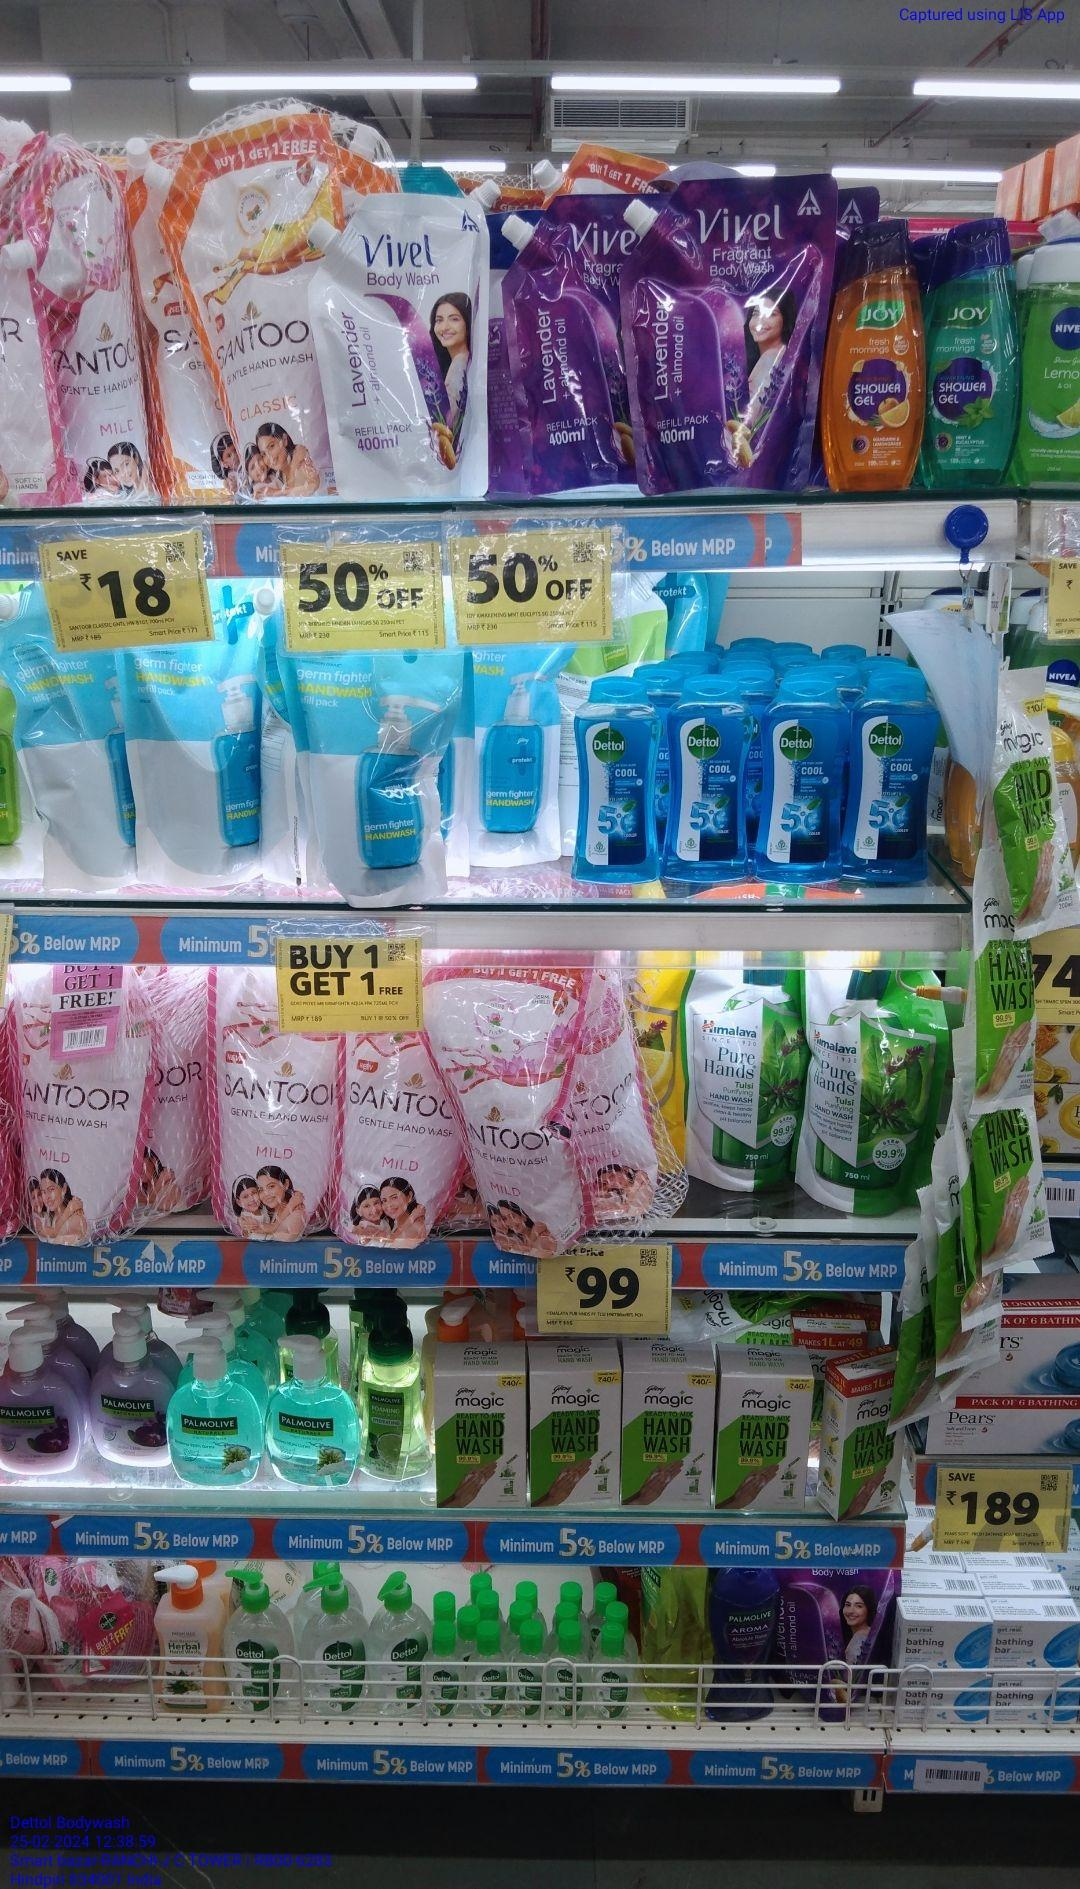Dettol_Bodywash_Cool: (572, 681, 658, 884), (853, 668, 929, 884), (671, 682, 753, 884), (763, 690, 848, 881)
Joy_Shower_Gel_Mandarin_and_Lemongrass_250ML: (826, 224, 919, 494)
Joy_Shower_Gel_Mint_and_Eucalyptus_250ML: (933, 219, 1014, 492)
